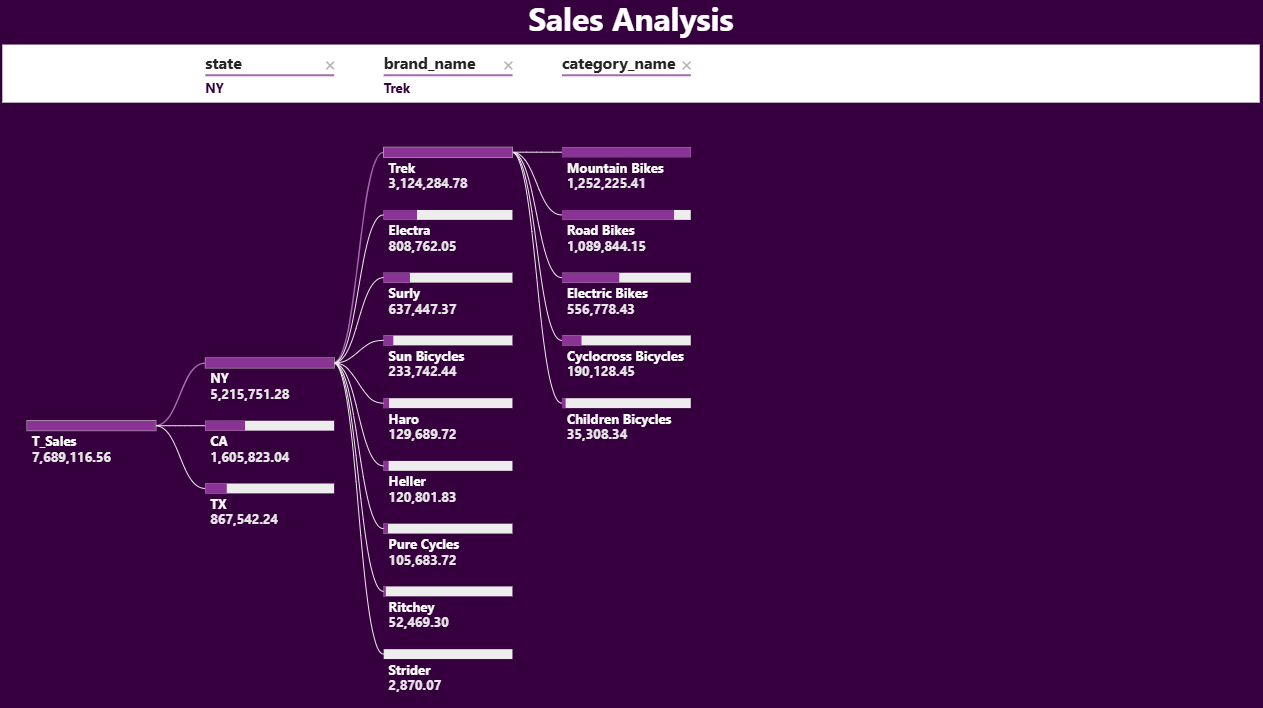

The dashboard page shown, as its layout file describes it:
{"tool":"powerbi","page":{"name":"Decomposition Tree","canvas":[1280,720],"ordinal":6},"visuals":[{"type":"decompositionTreeVisual","title":"Sales Analysis","fields":{"Analyze":["_Measure.T_Sales"],"ExplainBy":["Customers.state2","Product.brand_name","Product.category_name"]},"box":[0,0,1279.7,793.5],"z":2001}]}

Visuals, with their boxes in screenshot pixels (x1, y1, x2, y2), scaled from the page's 1280x720 canvas onto the 1263x708 screenshot:
"Sales Analysis" decompositionTreeVisual: (x1=0, y1=0, x2=1262, y2=707)
